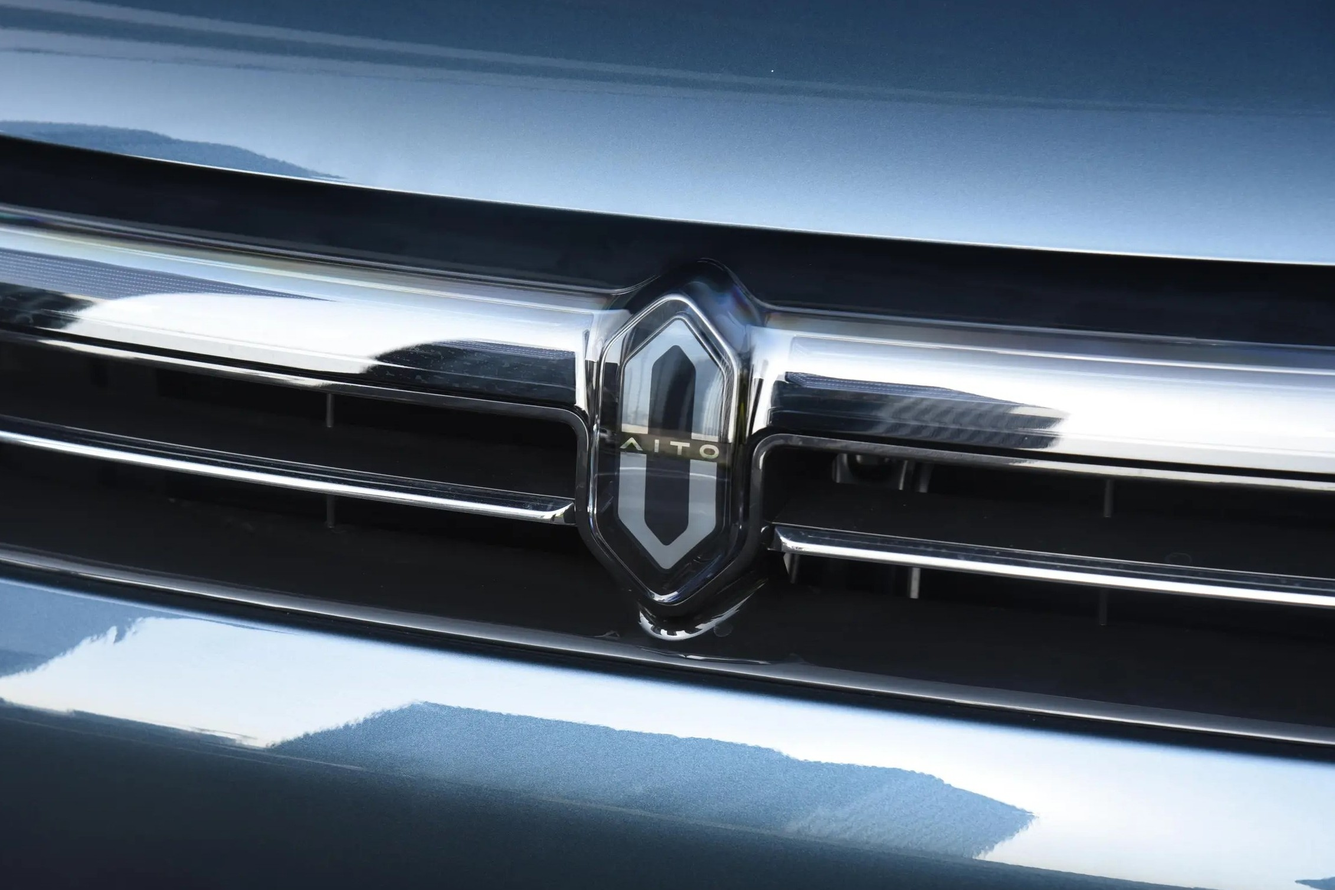AITO: (619, 320, 724, 568)
